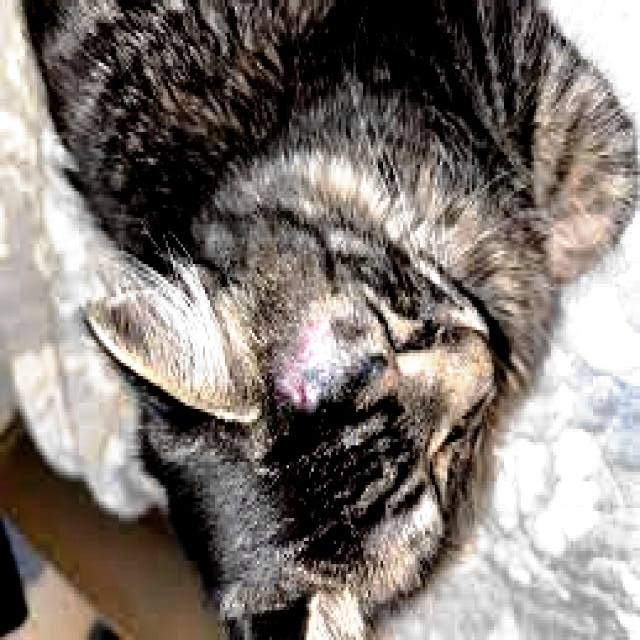ringworm: (271, 290, 358, 421)
